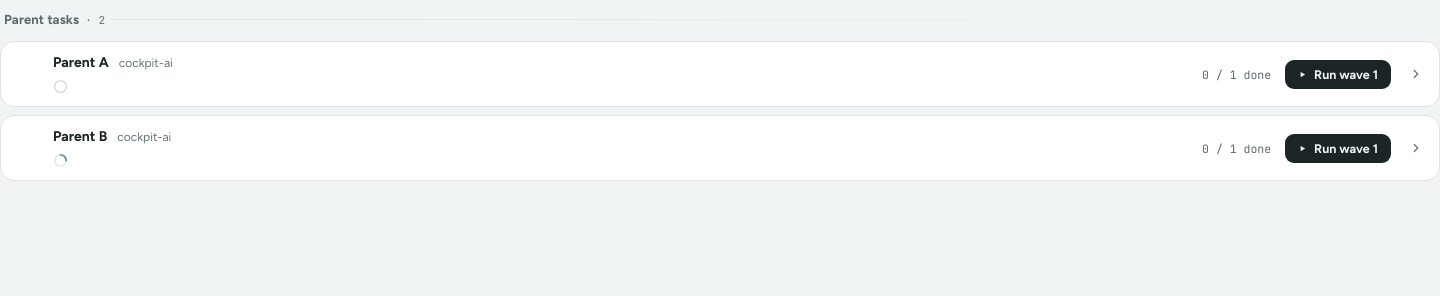
Test: ParentTasksSection › clicking a row opens it; clicking again closes it
Click the element with test id "parent-row-head" that starts with "Parent A" at x=81, y=62, box [1,42,1439,106]
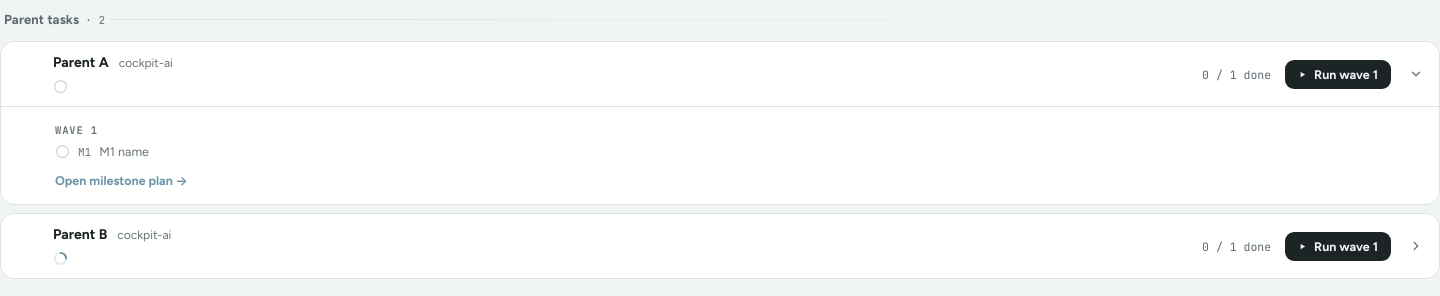
Click the element with test id "parent-row-head" that starts with "Parent A" at x=81, y=62, box [1,42,1439,106]
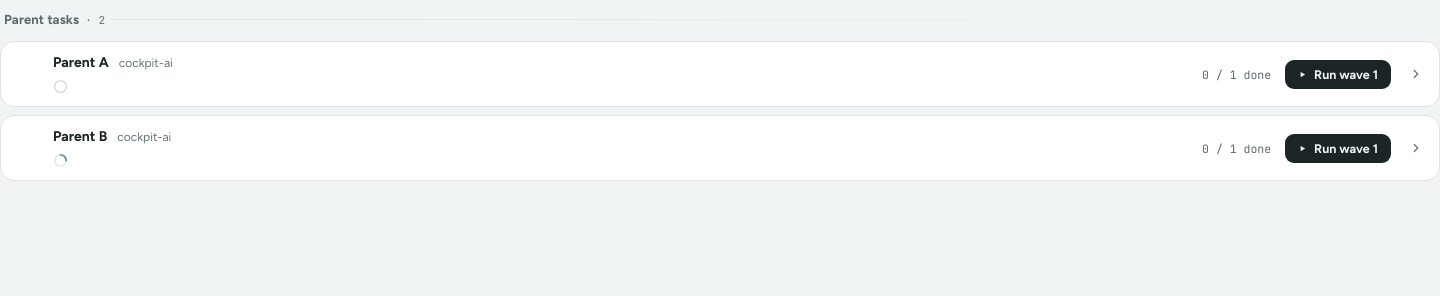
expect the element with test id "parent-expanded" is gone: met
